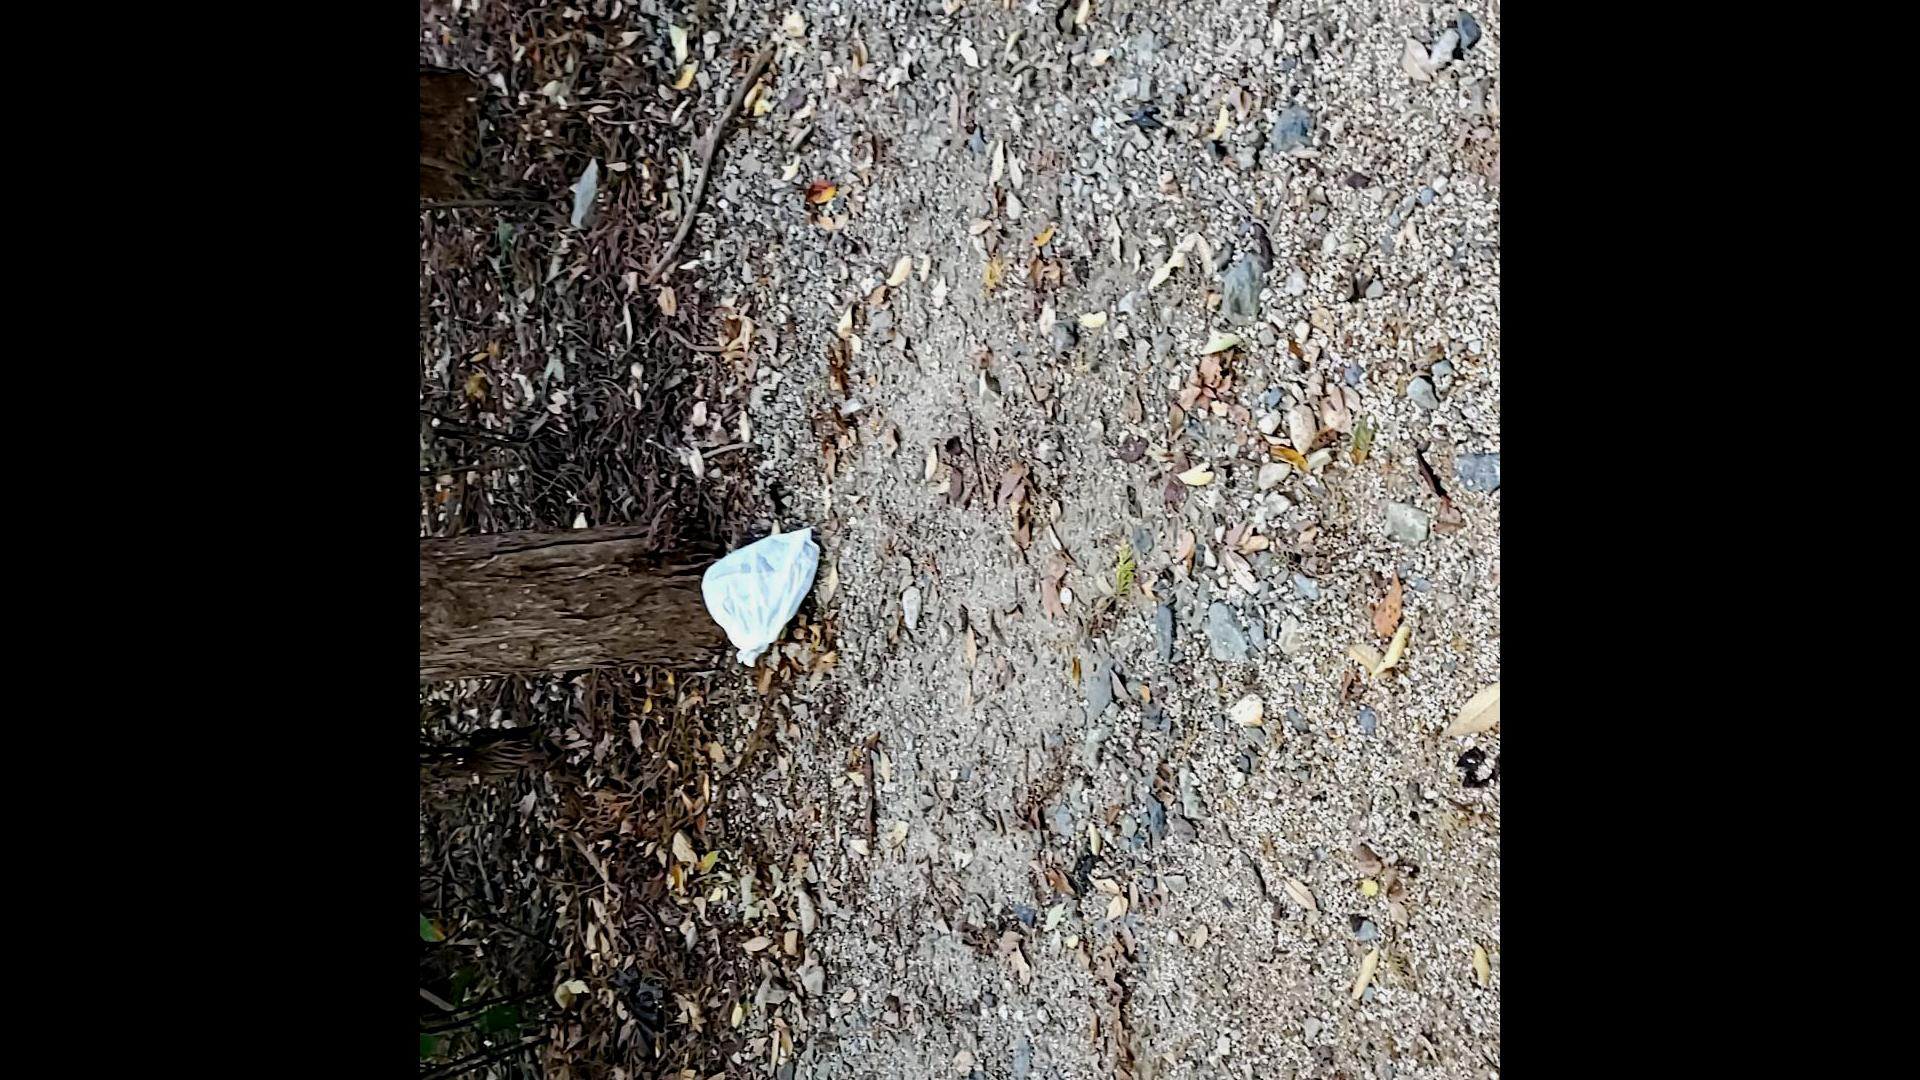white_bag: (694, 513, 833, 680)
